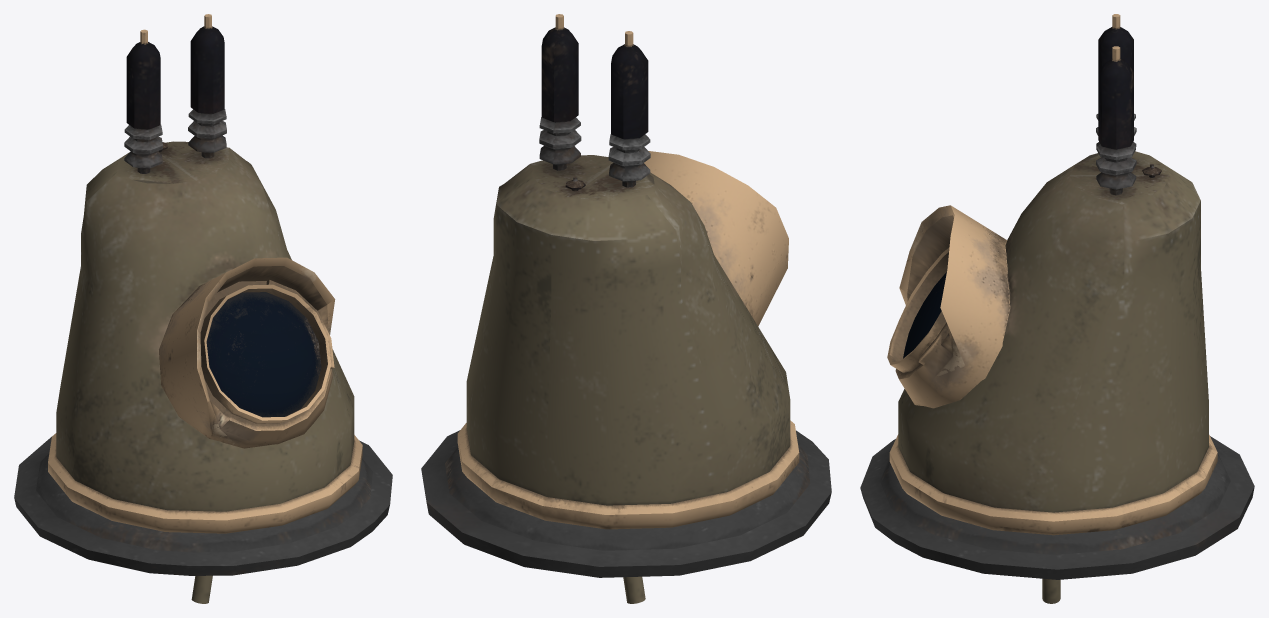
File: Control Wheel Head 02.fbx
3 views of the same model, side by side, from view 1: azimuth 30°, elevation 25°; view 2: azimuth 150°, elevation 25°; view 3: azimuth 270°, elevation 25° (orthographic). The views are drawn at different scales.
Visible parts, largest first — view 1: Base; view 2: Base; view 3: Base.
Part boxes in pixels (<box>): Base: <box>14,14,392,603</box>; Base: <box>421,14,831,603</box>; Base: <box>860,14,1254,603</box>.
Bounding box in the file's own units: 53.41 × 85.5 × 53.41.
